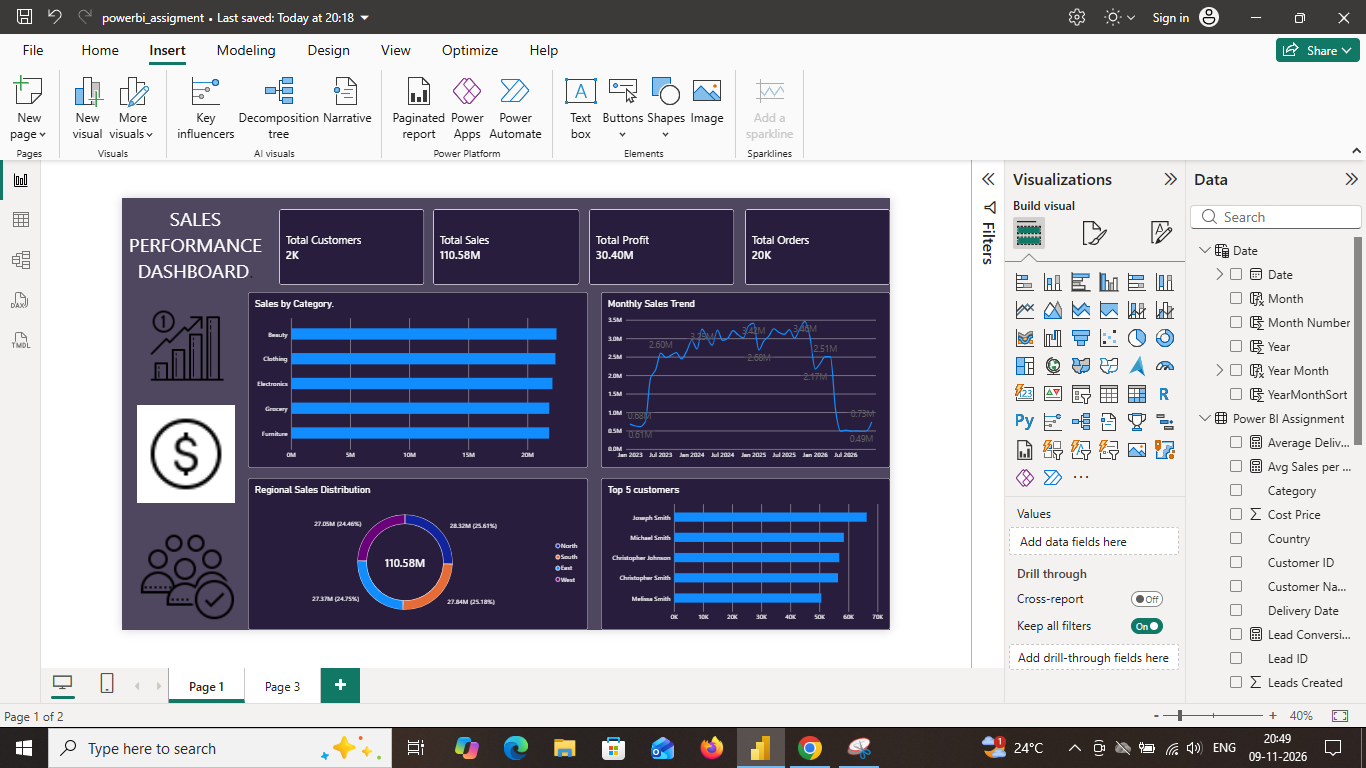

What the dashboard file says about the page in this screenshot:
{"tool":"powerbi","page":{"name":"Page 1","canvas":[1920,1080],"ordinal":0},"visuals":[{"type":"textbox","box":[0,0,367.5,235],"z":0},{"type":"cardVisual","fields":{"Data":["Power BI Assignment.Total Customers"]},"box":[393.3,26.7,363.3,190],"z":1000},{"type":"cardVisual","fields":{"Data":["Power BI Assignment.Total Sales"]},"box":[776.7,26.7,366.7,190],"z":2000},{"type":"cardVisual","fields":{"Data":["Power BI Assignment.Total Profit"]},"box":[1166.7,26.7,363.3,190],"z":3000},{"type":"cardVisual","fields":{"Data":["Power BI Assignment.Total Orders"]},"box":[1556.7,26.7,363.3,190],"z":4000},{"type":"lineChart","title":"Monthly Sales Trend","fields":{"Category":["Date.Year Month.Variation.Date Hierarchy.Year","Date.Year Month.Variation.Date Hierarchy.Quarter","Date.Year Month.Variation.Date Hierarchy.Month","Date.Year Month.Variation.Date Hierarchy.Day"],"Y":["Power BI Assignment.Total Sales"]},"box":[1197.5,235,722.5,440],"z":5000},{"type":"clusteredBarChart","title":"Sales by Category.","fields":{"Category":["Power BI Assignment.Category"],"Y":["Power BI Assignment.Total Sales"]},"box":[315,235,850,440],"z":6000},{"type":"donutChart","title":"Regional Sales Distribution","fields":{"Category":["Power BI Assignment.Region"],"Y":["Power BI Assignment.Total Sales"]},"box":[315,700,850,380],"z":7000},{"type":"clusteredBarChart","title":"Top 5 customers","fields":{"Category":["Power BI Assignment.Customer Name"],"Y":["Power BI Assignment.Total Sales"]},"box":[1197.5,700,722.5,380],"z":8000},{"type":"image","box":[40,254,245,240],"z":13001},{"type":"image","box":[38,518,245,245],"z":13002},{"type":"image","box":[34,804,245,250],"z":13003}]}

Visuals, with their boxes on the page's 1920x1080 design canvas (x1, y1, x2, y2). These are canvas units, not pixel positions in the 1366x768 screenshot, which may show the page scaled, cropped or inside an application window:
textbox: 0:0:368:235
cardVisual - Power BI Assignment.Total Customers: 393:27:757:217
cardVisual - Power BI Assignment.Total Sales: 777:27:1143:217
cardVisual - Power BI Assignment.Total Profit: 1167:27:1530:217
cardVisual - Power BI Assignment.Total Orders: 1557:27:1920:217
"Monthly Sales Trend" lineChart: 1198:235:1920:675
"Sales by Category." clusteredBarChart: 315:235:1165:675
"Regional Sales Distribution" donutChart: 315:700:1165:1080
"Top 5 customers" clusteredBarChart: 1198:700:1920:1080
image: 40:254:285:494
image: 38:518:283:763
image: 34:804:279:1054
